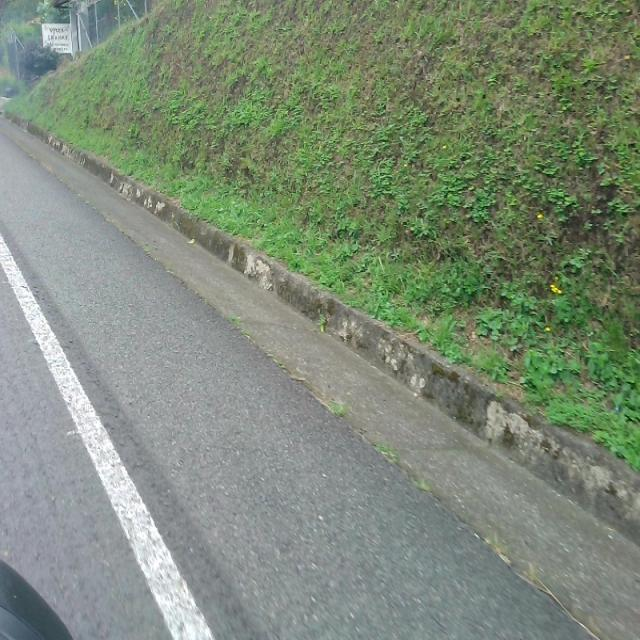DITCH: (1, 96, 638, 638), (1, 107, 638, 638)
